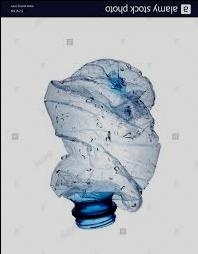Plastic: (41, 48, 164, 240)
